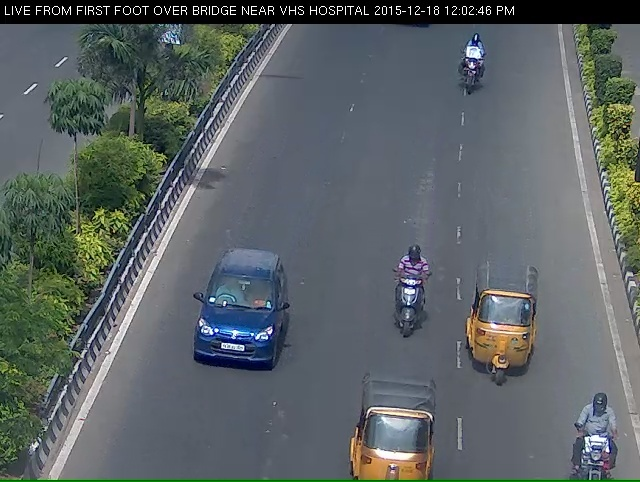Car: (177, 265, 287, 399), (345, 388, 442, 471), (472, 272, 532, 402)
Person: (383, 253, 431, 352), (576, 407, 625, 470), (460, 39, 482, 96)
